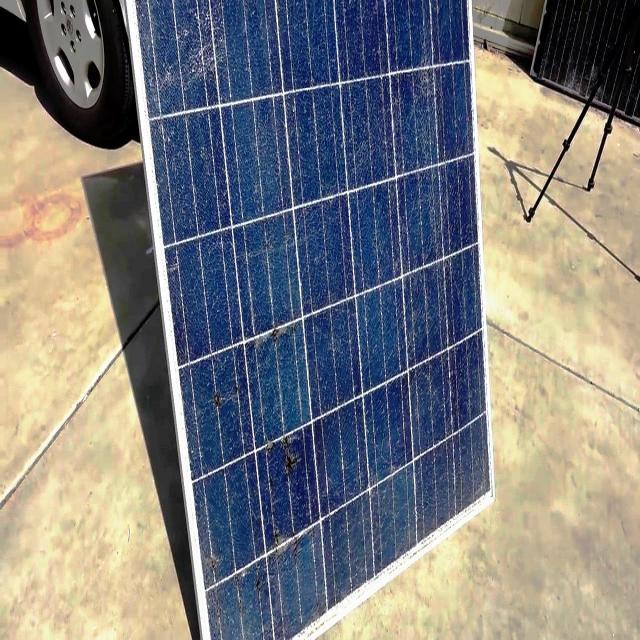faulty: (134, 1, 493, 640)
